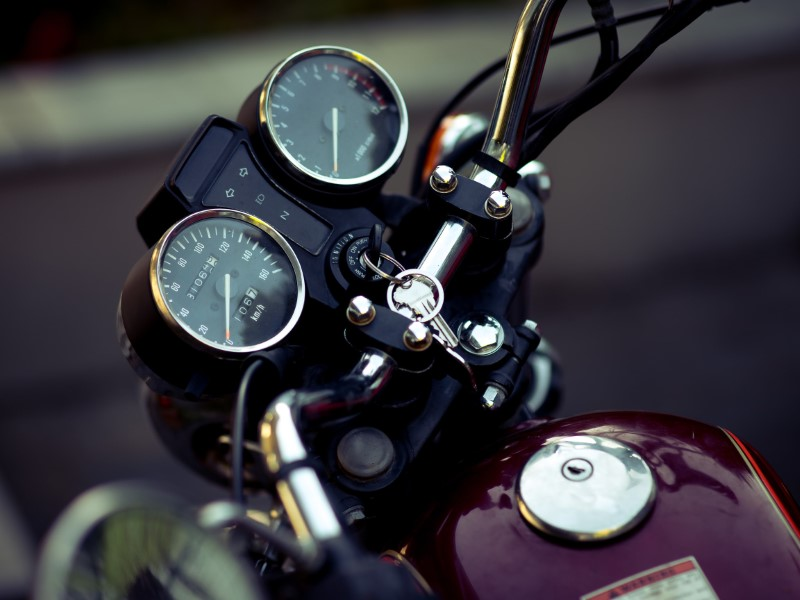carkey: (345, 219, 464, 357)
